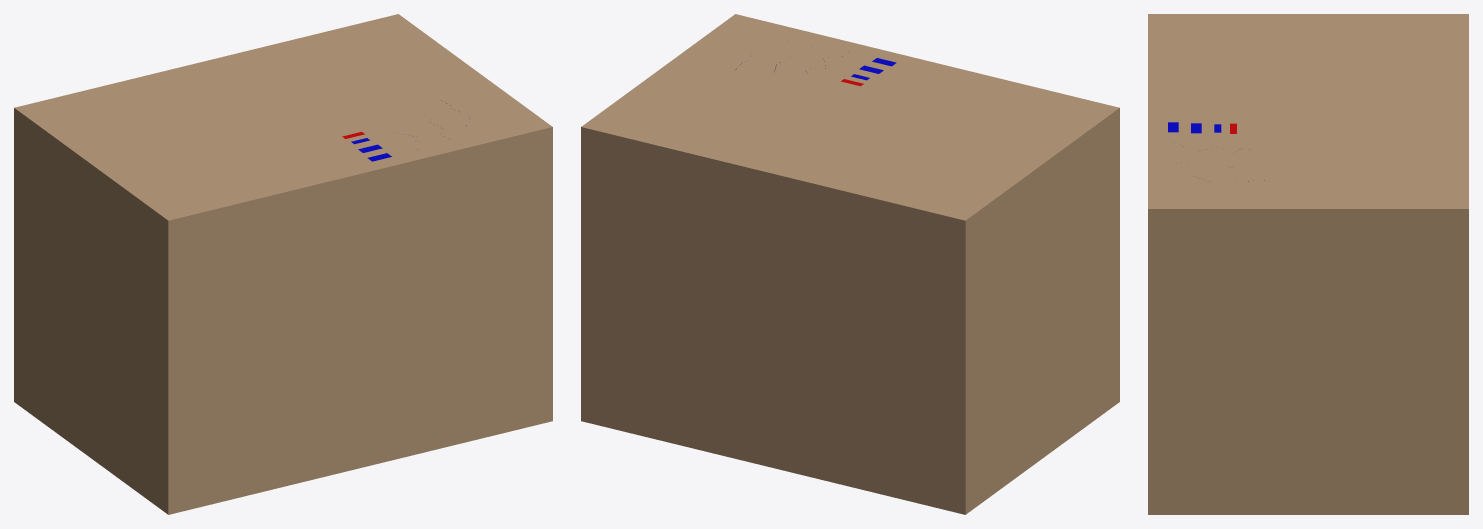
File: packet.dae
3 renders of one model, left to right at view 1: azimuth 30°, elevation 25°; view 2: azimuth 150°, elevation 25°; view 3: azimuth 270°, elevation 25°, orthographic. The views are drawn at different scales.
Parts seen in each view (by area): view 1: Camera; view 2: Camera; view 3: Camera.
Boxes of the visible parts, x1,y1,x2,y2 form: Camera: (14,14,552,514); Camera: (581,14,1119,514); Camera: (1148,14,1468,514).
Bounding box in the file's own units: 0.5552 × 0.3861 × 0.4061.
